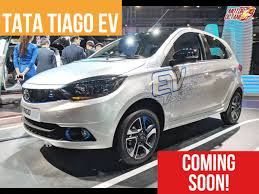Tiago: (19, 23, 244, 167)
